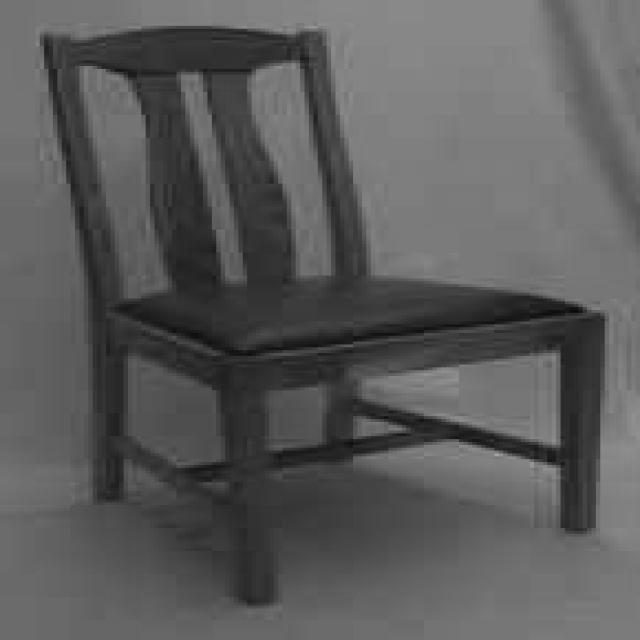chair: (32, 13, 602, 610)
